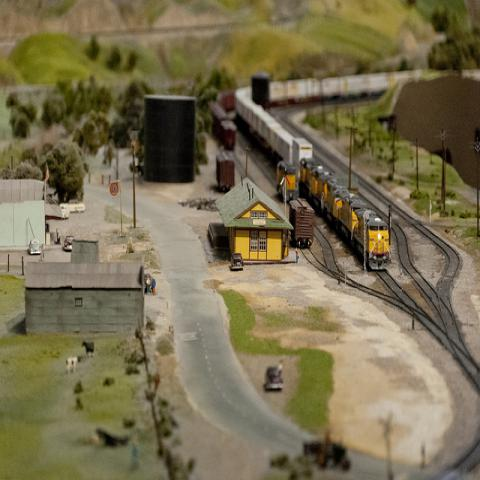car: (264, 366, 284, 390), (28, 238, 42, 256), (231, 253, 244, 270), (64, 236, 75, 250)
